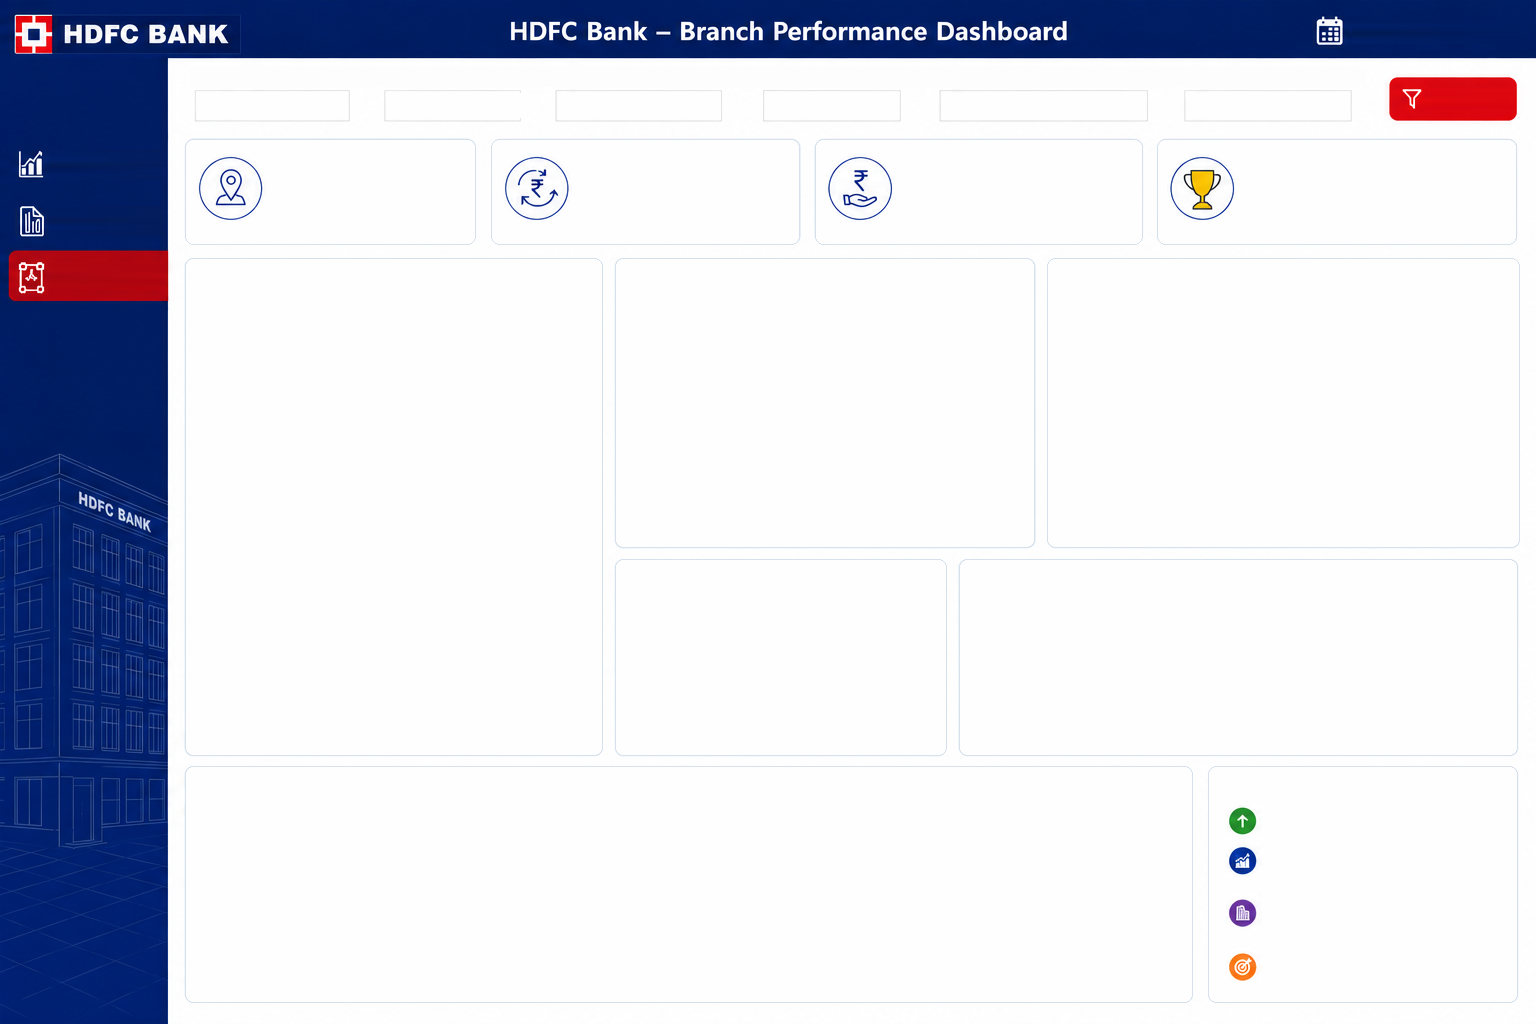

The page's visual inventory and layout, read from the dashboard file:
{"tool":"powerbi","page":{"name":"Branch Performance","canvas":[2560,1440],"ordinal":2},"visuals":[{"type":"pageNavigator","box":[71.9,182,249.1,253.9],"z":0},{"type":"slicer","fields":{"Values":["DimDate.FinancialYear"]},"box":[321.2,86.3,263.7,93.5],"z":1},{"type":"slicer","fields":{"Values":["DimDate.Quarter"]},"box":[637.6,86.3,266.1,93.5],"z":2},{"type":"slicer","fields":{"Values":["DimBranch.Region"]},"box":[922.8,86.3,285.2,93.5],"z":3},{"type":"slicer","fields":{"Values":["DimBranch.Zone"]},"box":[1263.2,86.3,242.1,93.5],"z":4},{"type":"slicer","fields":{"Values":["DimBranch.BranchName"]},"box":[1558.1,88.7,359.6,93.5],"z":5},{"type":"slicer","fields":{"Values":["DimBranch.City Tier"]},"box":[1936.8,86.3,321.2,93.5],"z":6},{"type":"group","id":"g1","title":"Group 3","box":[1474.3,134.2,445.8,232.5],"z":7},{"type":"group","id":"g2","title":"Group 4","box":[2039.3,136.6,503.4,226.4],"z":8},{"type":"group","id":"g3","title":"Group 1","box":[910.9,136.6,474.6,230.1],"z":9},{"type":"group","id":"g4","title":"Group 2","box":[400.3,139,405.1,213.3],"z":10},{"type":"actionButton","box":[2329.9,112.7,210.9,50.3],"z":11},{"type":"cardVisual","fields":{"Data":["MeasureTable.Data As On"]},"box":[2226.8,0,333.2,86.3],"z":12},{"type":"clusteredBarChart","title":"Revenue by Branch Hierarchy (Drill down: Region > Zone > City > Branch)","fields":{"Category":["DimBranch.Region","DimBranch.City","DimBranch.Zone","DimBranch.BranchName"],"Y":["MeasureTable.Total Deposits Cr"]},"box":[1052.3,354.3,687.9,436.3],"z":13},{"type":"lineChart","title":"Transactions Trend (Drill down: Year > Quarter > Month > Day)","fields":{"Category":["DimDate.FY","DimDate.FY Quarter","DimDate.Month Label","DimDate.Date.Variation.Date Hierarchy.Year","DimDate.Date.Variation.Date Hierarchy.Quarter","DimDate.Date.Variation.Date Hierarchy.Month","DimDate.Date.Variation.Date Hierarchy.Day"],"Y":["MeasureTable.EMI Collection Cr"]},"box":[1769,354.3,791,441],"z":14},{"type":"donutChart","title":"Loan Status Distribution","fields":{"Category":["FactTransactions.TransactionType"],"Y":["MeasureTable.Total Transactions"]},"box":[1035.5,791,544.1,285.2],"z":15},{"type":"map","title":"Branch Network Performance (Total Deposits ₹ Cr)","fields":{"Category":["DimBranch.City"],"Size":["MeasureTable.Total Deposits Cr"]},"box":[302,366.7,711.9,687.9],"z":16},{"type":"pivotTable","fields":{"Rows":["DimBranch.Region","DimBranch.Zone","DimBranch.City","DimBranch.BranchName"],"Values":["MeasureTable.Total Deposits Cr","MeasureTable.Loan Book Cr","MeasureTable.Total Transactions","MeasureTable.Achievement %","MeasureTable.Active Loans"]},"box":[321.2,1076.3,1682.7,364.3],"z":17},{"type":"clusteredColumnChart","title":"Branch Type Performance (₹ Cr)","fields":{"Category":["DimBranch.City"],"Y":["MeasureTable.Total Transactions","MeasureTable.Loan Book Cr"]},"box":[1603.6,791,937.2,285.2],"z":18},{"type":"textbox","box":[2015.9,1076.3,210.9,67.1],"z":19},{"type":"textbox","box":[2097.4,1126.6,445.8,57.5],"z":20},{"type":"textbox","box":[2097.4,1184.1,424.3,74.3],"z":21},{"type":"textbox","box":[2097.4,1258.4,424.3,86.3],"z":22},{"type":"textbox","box":[2097.4,1344.7,424.3,69.5],"z":23},{"type":"cardVisual","fields":{"Data":["MeasureTable.Total Branches"]},"box":[400.3,139,404.8,213.2],"z":8000,"group":"g4"},{"type":"cardVisual","fields":{"Data":["MeasureTable.Total Transactions"]},"box":[922.6,136.6,443.4,218.1],"z":9000,"group":"g3"},{"type":"cardVisual","fields":{"Data":["MeasureTable.Best Branch"]},"box":[2049.5,136.6,473.2,226.4],"z":10000,"group":"g2"},{"type":"cardVisual","fields":{"Data":["MeasureTable.Avg Transaction Value"]},"box":[1474.3,134.2,445.8,232.5],"z":11000,"group":"g1"},{"type":"cardVisual","fields":{"Data":["MeasureTable.Sub Branches"]},"box":[513.6,292.3,285.2,55.1],"z":12000,"group":"g4"},{"type":"cardVisual","fields":{"Data":["MeasureTable.Sub Transactions"]},"box":[910.9,267.7,474.6,98.3],"z":13000,"group":"g3"},{"type":"cardVisual","fields":{"Data":["MeasureTable.Sub Avg Transaction"]},"box":[1479,293.6,436.3,71.9],"z":14000,"group":"g1"},{"type":"cardVisual","fields":{"Data":["MeasureTable.Best Branch Info"]},"box":[2039.3,293.3,503.4,57.5],"z":15000,"group":"g2"}]}

Visuals, with their boxes on the page's 2560x1440 design canvas (x1, y1, x2, y2). These are canvas units, not pixel positions in the 1536x1024 screenshot, which may show the page scaled, cropped or inside an application window:
pageNavigator: (72,182,321,436)
slicer - DimDate.FinancialYear: (321,86,585,180)
slicer - DimDate.Quarter: (638,86,904,180)
slicer - DimBranch.Region: (923,86,1208,180)
slicer - DimBranch.Zone: (1263,86,1505,180)
slicer - DimBranch.BranchName: (1558,89,1918,182)
slicer - DimBranch.City Tier: (1937,86,2258,180)
"Group 3" group: (1474,134,1920,367)
"Group 4" group: (2039,137,2543,363)
"Group 1" group: (911,137,1386,367)
"Group 2" group: (400,139,805,352)
actionButton: (2330,113,2541,163)
cardVisual - MeasureTable.Data As On: (2227,0,2560,86)
"Revenue by Branch Hierarchy (Drill down: Region > Zone > City > Branch)" clusteredBarChart: (1052,354,1740,791)
"Transactions Trend (Drill down: Year > Quarter > Month > Day)" lineChart: (1769,354,2560,795)
"Loan Status Distribution" donutChart: (1036,791,1580,1076)
"Branch Network Performance (Total Deposits ₹ Cr)" map: (302,367,1014,1055)
pivotTable - DimBranch.Region x DimBranch.Zone: (321,1076,2004,1441)
"Branch Type Performance (₹ Cr)" clusteredColumnChart: (1604,791,2541,1076)
textbox: (2016,1076,2227,1143)
textbox: (2097,1127,2543,1184)
textbox: (2097,1184,2522,1258)
textbox: (2097,1258,2522,1345)
textbox: (2097,1345,2522,1414)
cardVisual - MeasureTable.Total Branches: (400,139,805,352)
cardVisual - MeasureTable.Total Transactions: (923,137,1366,355)
cardVisual - MeasureTable.Best Branch: (2050,137,2523,363)
cardVisual - MeasureTable.Avg Transaction Value: (1474,134,1920,367)
cardVisual - MeasureTable.Sub Branches: (514,292,799,347)
cardVisual - MeasureTable.Sub Transactions: (911,268,1386,366)
cardVisual - MeasureTable.Sub Avg Transaction: (1479,294,1915,366)
cardVisual - MeasureTable.Best Branch Info: (2039,293,2543,351)
